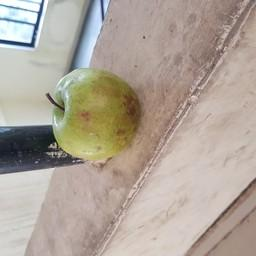Bad_apple: (51, 66, 143, 160)
